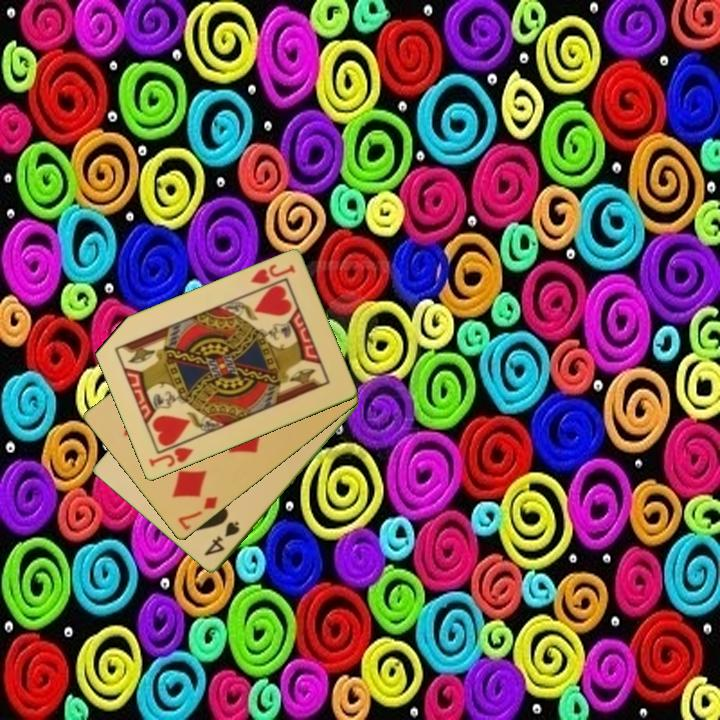4s: (201, 518, 243, 559)
7d: (174, 493, 220, 534)
Jh: (145, 444, 196, 471), (247, 261, 298, 288)
